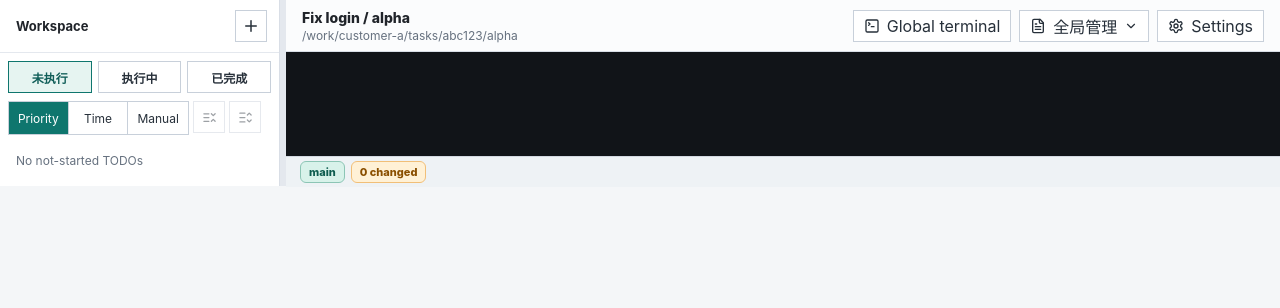
Test: App project terminal tree › shows only Terminal in launch menu when every custom launch profile is disabled
The image size is (1280, 308).
Click the button with test id "todo-view-in-progress".
click(140, 77)  # box [98,61,181,93]
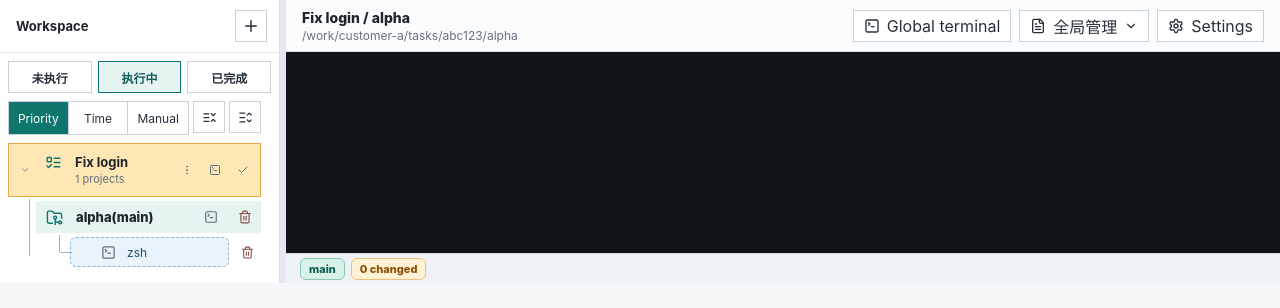
Click the button with test id "add-terminal-todo-project-a".
click(211, 217)  # box [196,202,226,232]
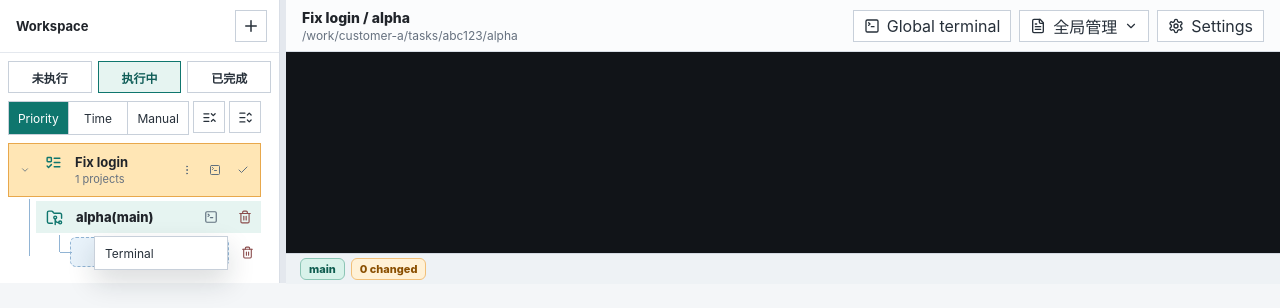
Expected: the element with test id "terminal-launch-menu-todo-project-a" reads "Terminal", [95,237,227,269]
